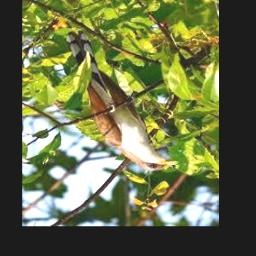Cuckoo: (66, 31, 178, 171)
